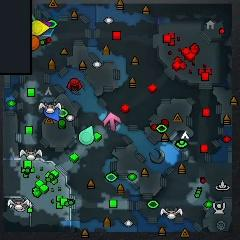p1: (44, 104, 62, 123)
p2: (79, 126, 94, 145)
p3: (41, 20, 53, 28)
p4: (31, 19, 49, 36)
p5: (30, 36, 41, 52)
x1: (104, 112, 121, 131)
